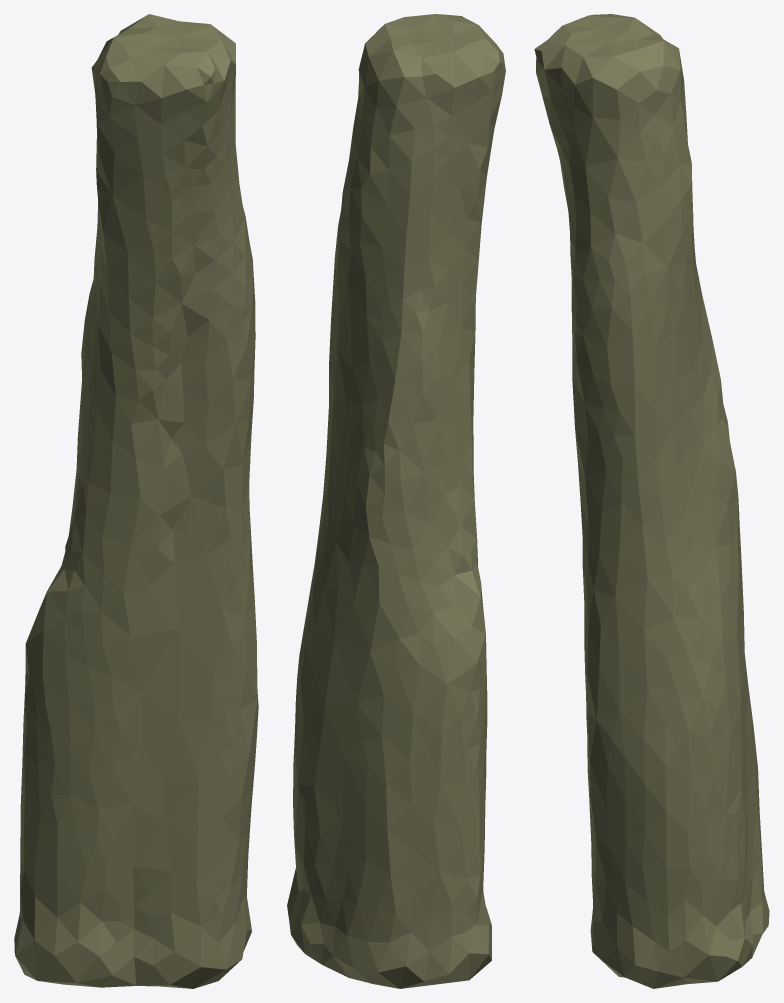
Rendered from RockPillar07.fbx.
3 views of the same model, side by side, from view 1: azimuth 30°, elevation 25°; view 2: azimuth 150°, elevation 25°; view 3: azimuth 270°, elevation 25° (orthographic). The views are drawn at different scales.
Parts seen in each view (by area): view 1: RockPillar07; view 2: RockPillar07; view 3: RockPillar07.
Part boxes in pixels (x1=…): RockPillar07: x1=14, y1=14, x2=258, y2=988; RockPillar07: x1=287, y1=14, x2=505, y2=988; RockPillar07: x1=534, y1=14, x2=769, y2=988.
Size of the model in its own units: 0.4587 by 1.97 by 0.4585.
